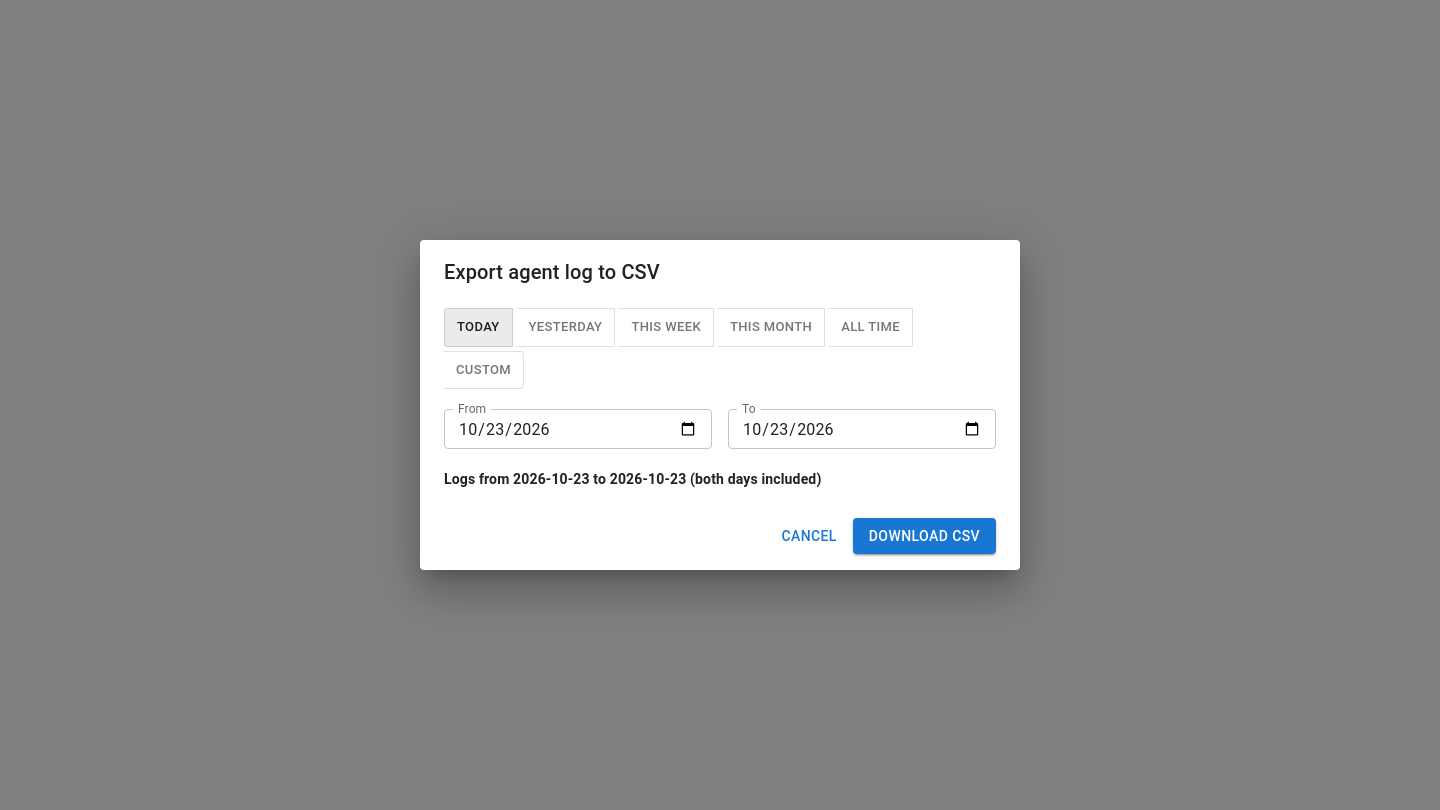
Scenario: ExportCsvDialog › will not download a custom range missing a date
Click the button "Custom".
click(484, 370)  # box x1=443 y1=351 x2=524 y2=390
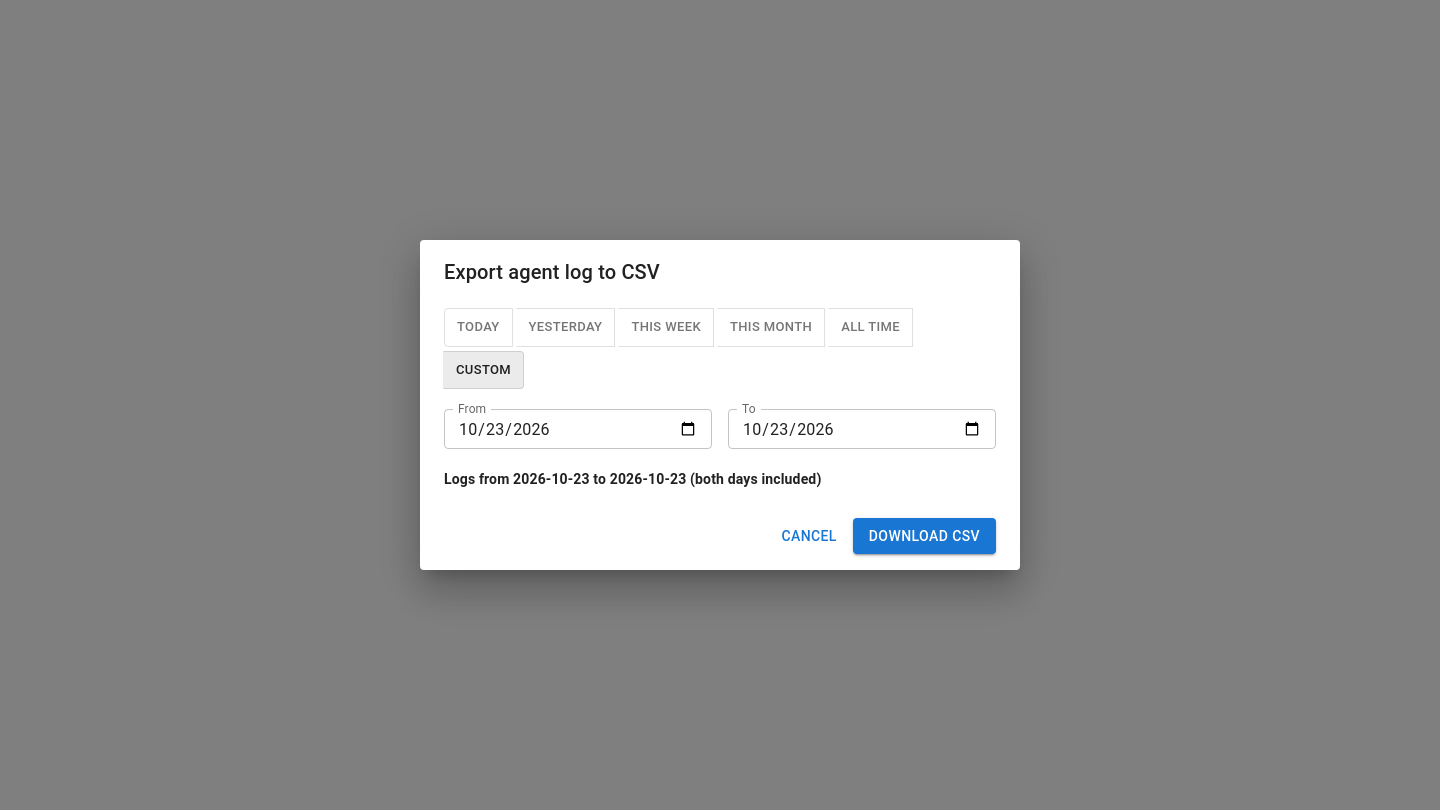
Clear the date field labelled "To" at coordinates (862, 430), box x1=728 y1=410 x2=996 y2=450
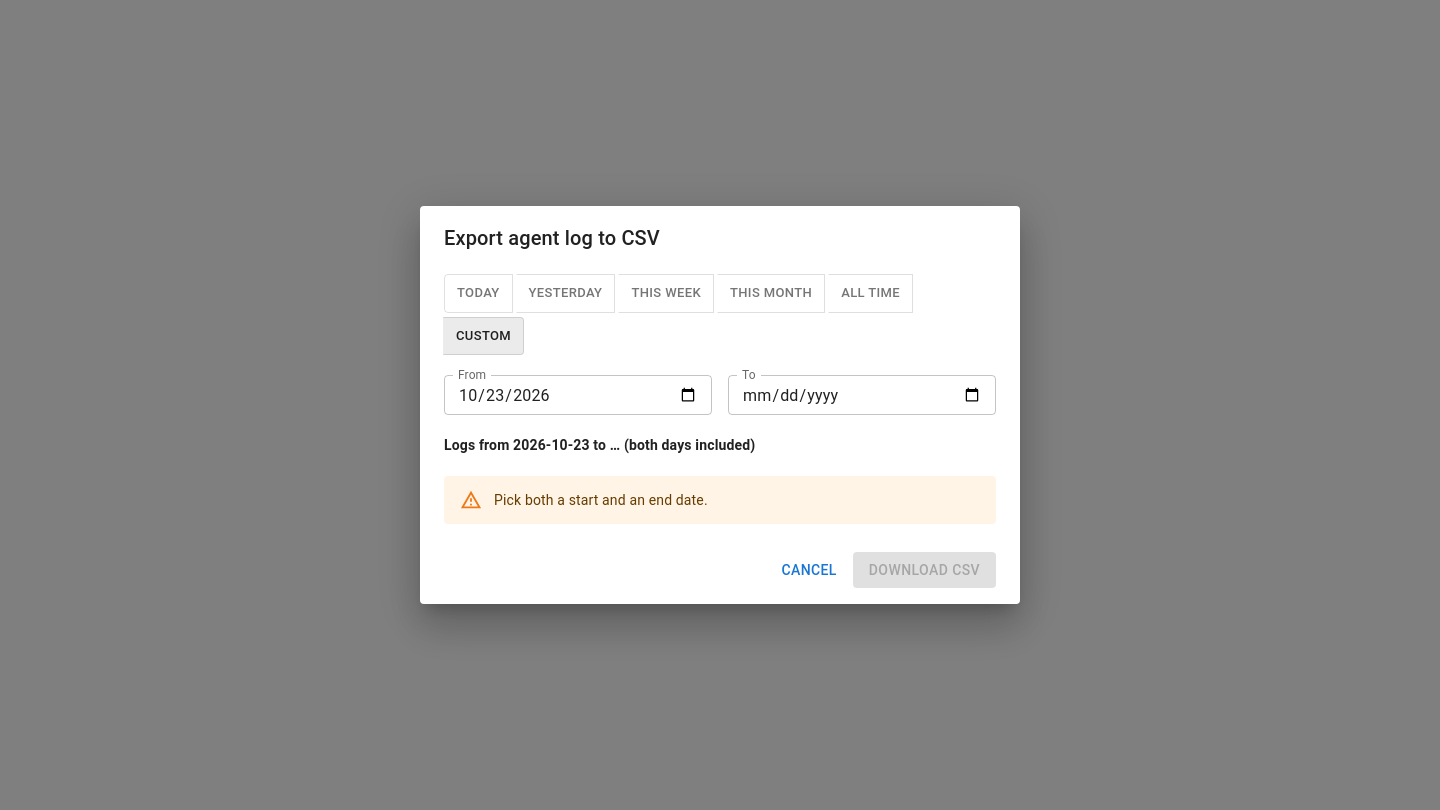
Now the text "Pick both a start and an end date." is shown, box x1=494 y1=492 x2=708 y2=508
Now the button "Download CSV" is disabled, box x1=853 y1=552 x2=996 y2=588
